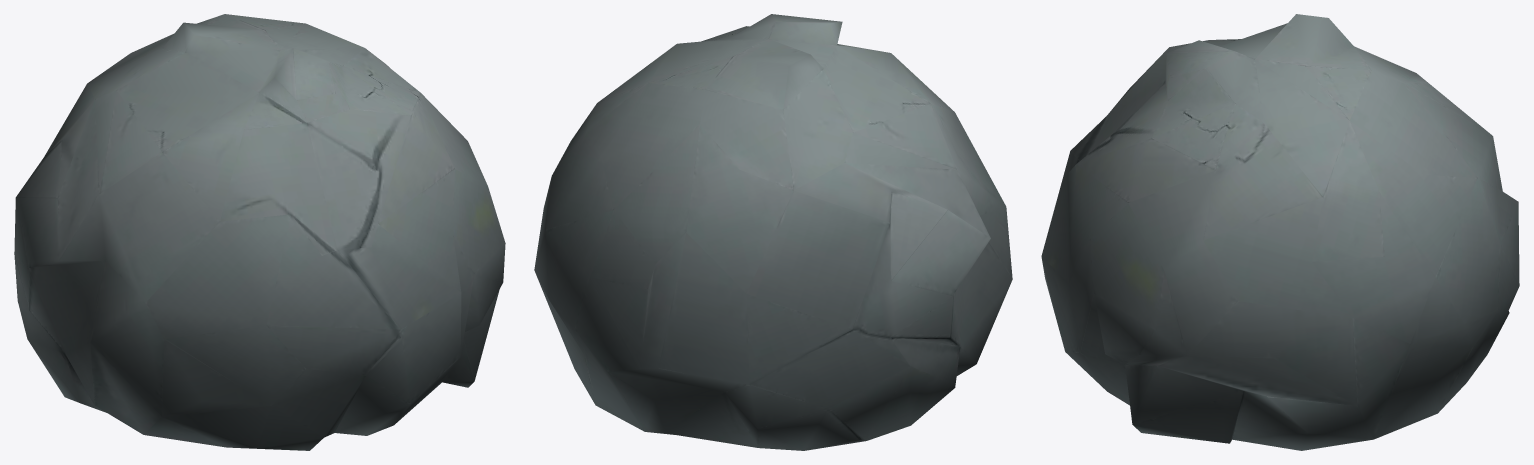
Rendered from rock_boulder.glb.
The picture shows the model from 3 angles, left to right: view 1: azimuth 30°, elevation 25°; view 2: azimuth 150°, elevation 25°; view 3: azimuth 270°, elevation 25°; orthographic projection. The views are drawn at different scales.
Bounding box in the file's own units: 0.9531 × 0.7358 × 0.9629.
1 material, 1 textured.
